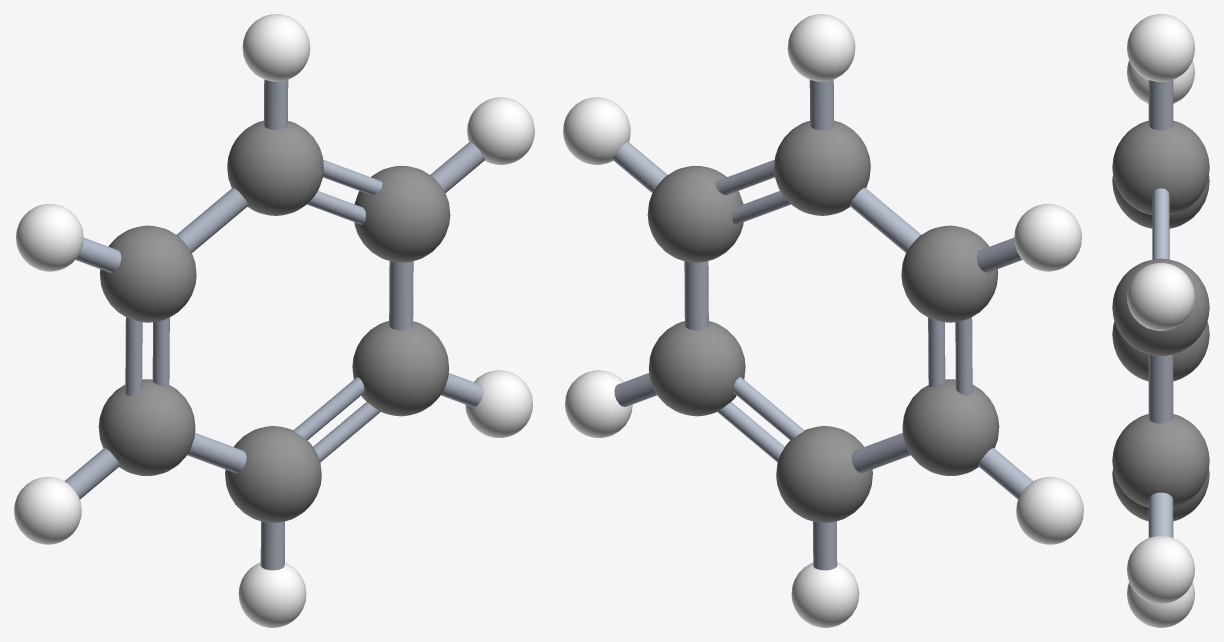
The model's file is benzene.glb.
3 views of the same model, side by side, from view 1: azimuth 30°, elevation 25°; view 2: azimuth 150°, elevation 25°; view 3: azimuth 270°, elevation 25° (orthographic).
Visible parts, largest first — view 1: C (×6), H (×6), bond (×15); view 2: C (×6), H (×6), bond (×15); view 3: C (×6), H (×5), bond (×4).
Part boxes in pixels (x1,y1,x2,y2): C (×6): (98,120,450,522); H (×6): (14,14,534,627); bond (×15): (64,79,484,570); C (×6): (647,120,999,522); H (×6): (563,14,1083,627); bond (×15): (613,79,1033,570); C (×6): (1112,120,1209,521); H (×5): (1127,14,1194,627); bond (×4): (1148,80,1173,537).
Size of the model in its own units: 0.1942 by 0.22 by 0.0319.
